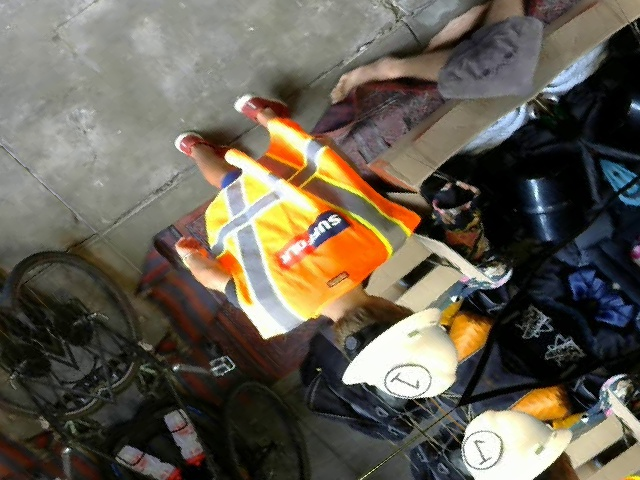one: (377, 356, 438, 407)
